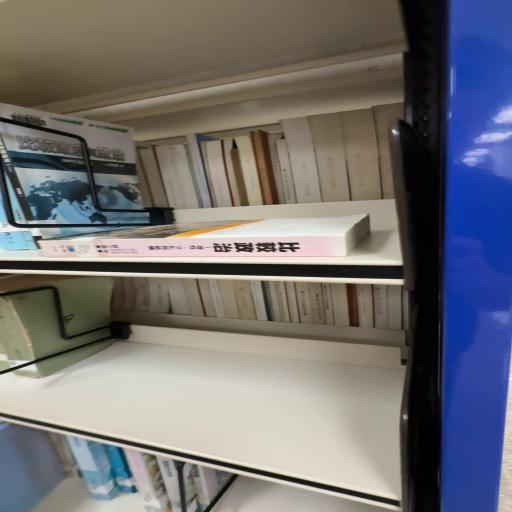flat: (40, 215, 371, 258)
